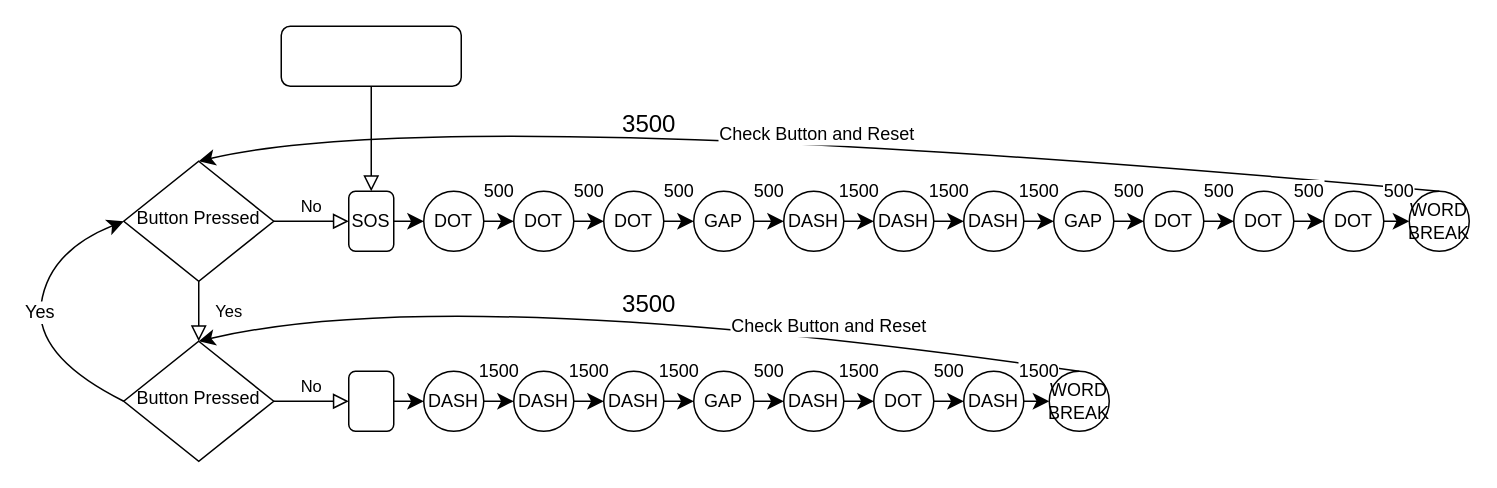
Some shapes in this 1497 by 488 pixel diagram are drawn without their labels. The centre of each missing label's shape, as x and y in pixels:
OK: the point at 370,400
Start Up: the point at 370,55
